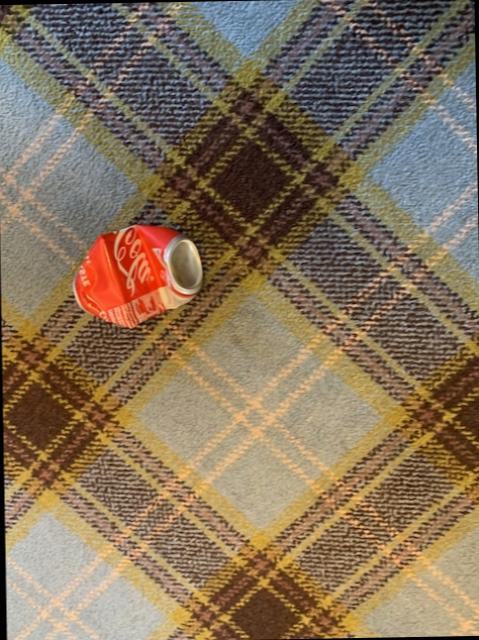metal: (73, 223, 202, 325)
